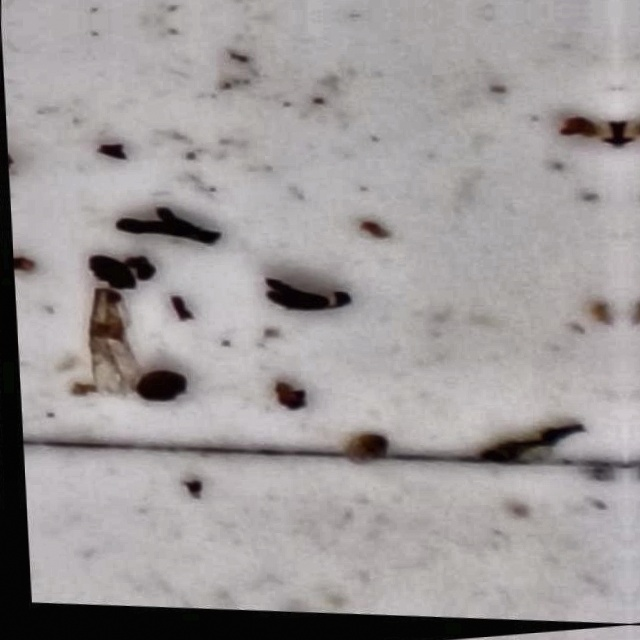varroa: (131, 376, 189, 410)
